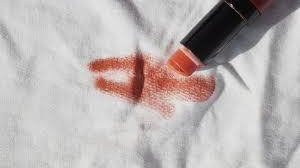lipstick: (85, 54, 219, 109)
